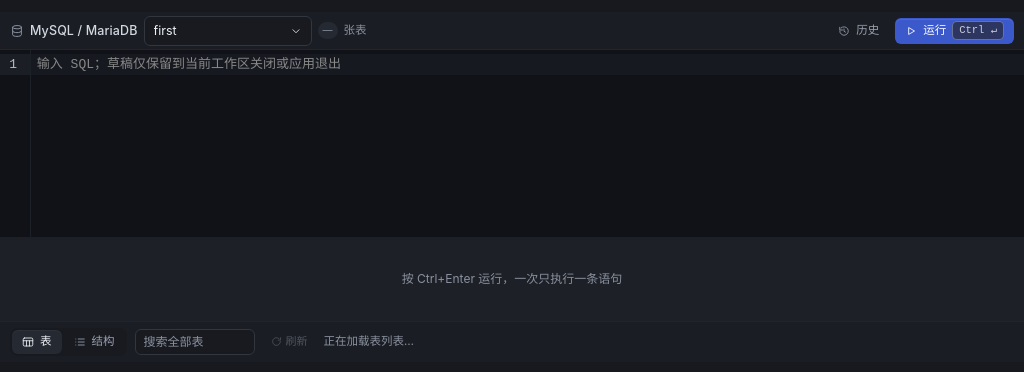
Test case: DbPanel SQL regressions › a stale schema's table-list response does not override the new selection
Click the button "first" at [228, 30], box [144,16,312,46]
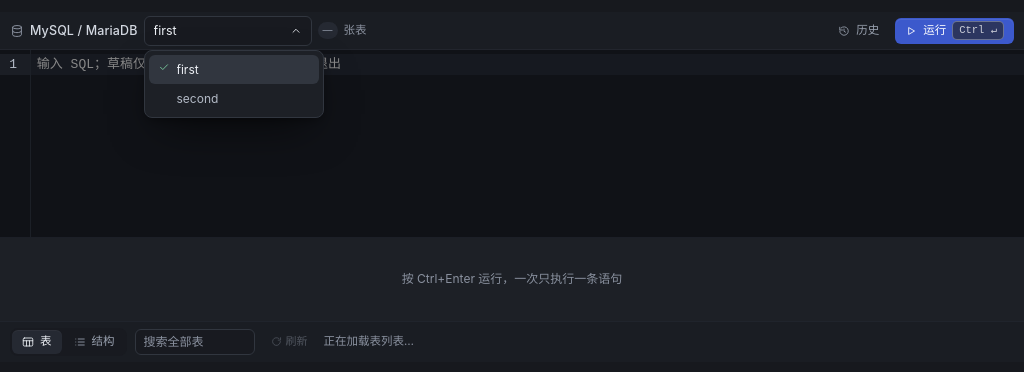
Click the option "second" at [197, 98], box [176,91,218,106]
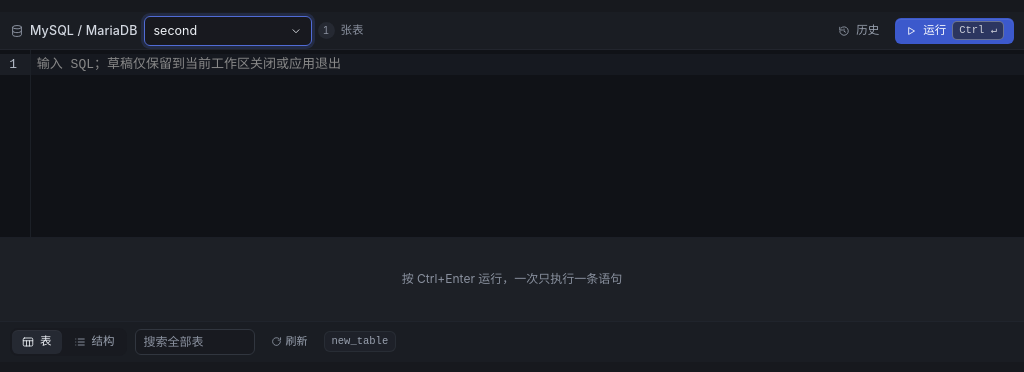
expect the text "new_table" is shown: met, box [324,331,396,352]
